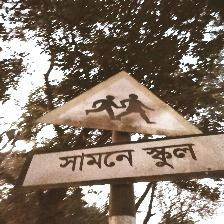School-in-front: (19, 70, 222, 190)
